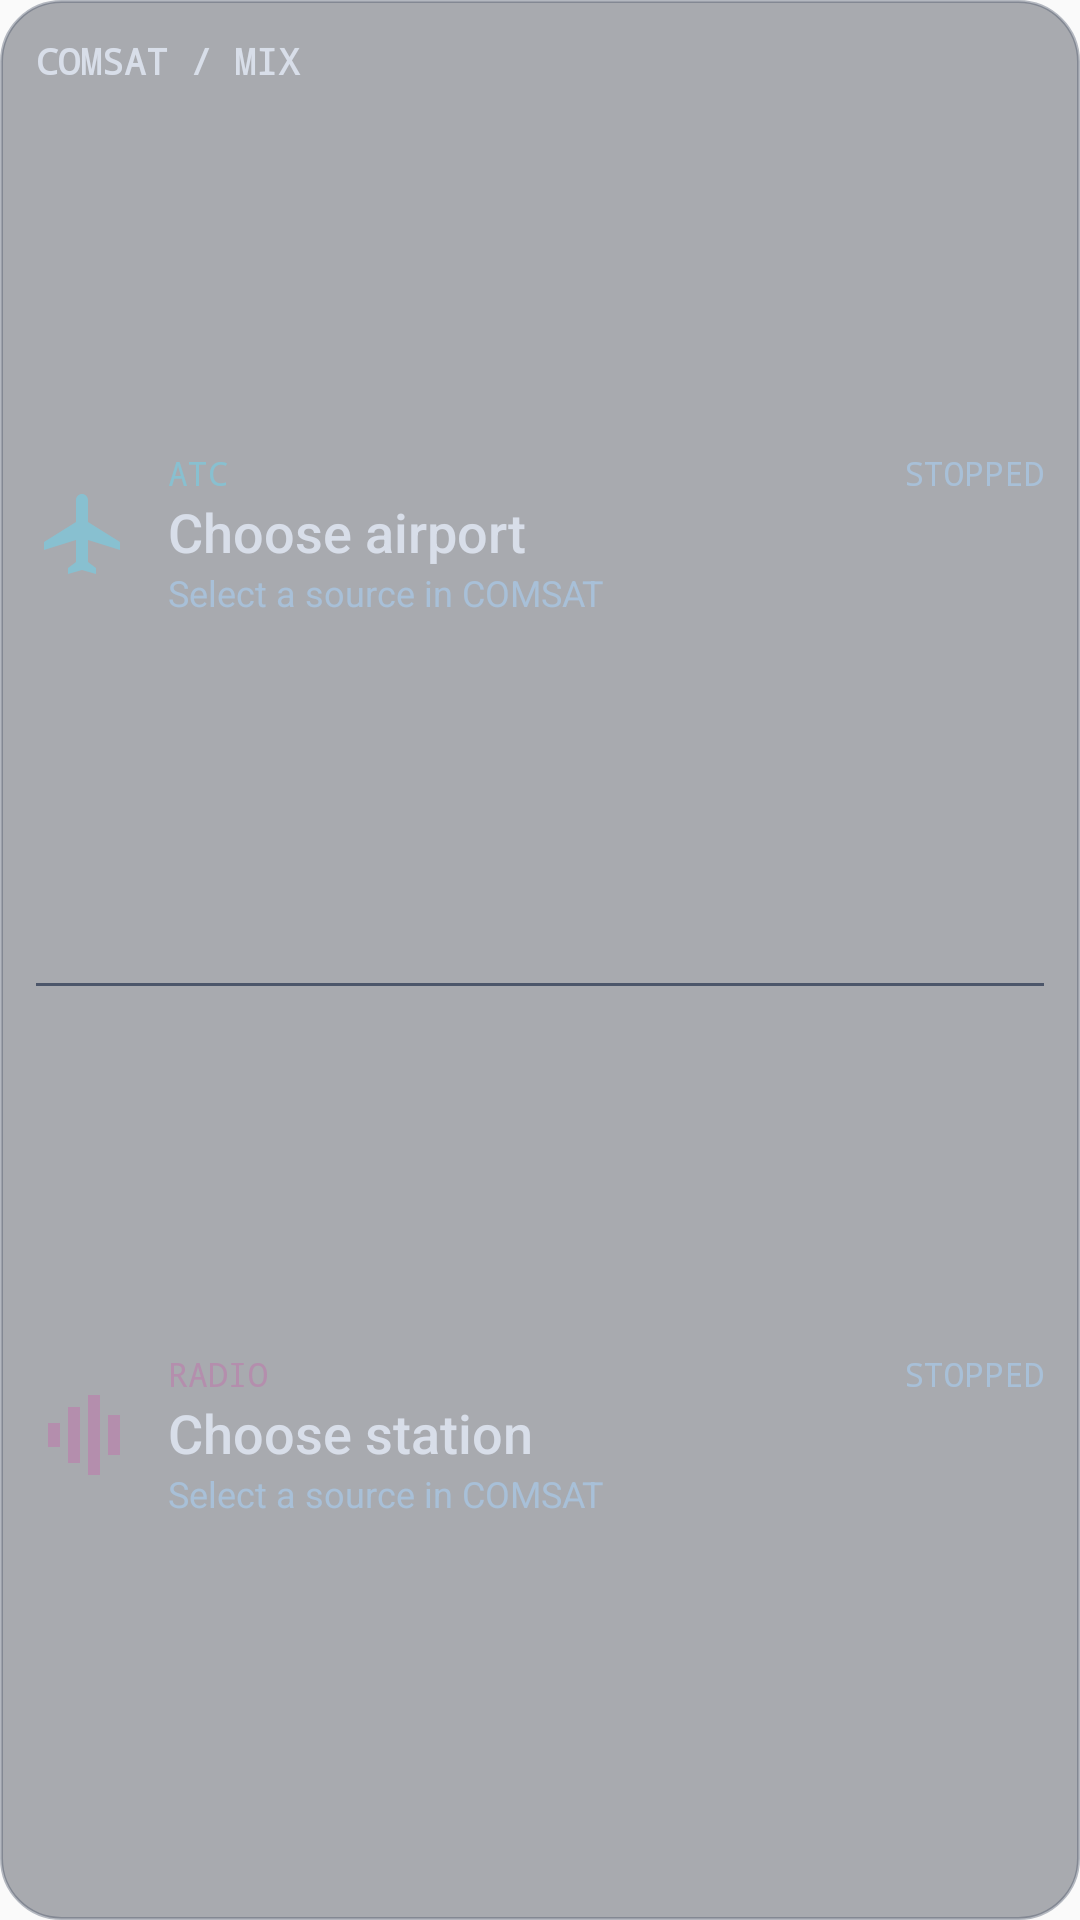

Locate icon controls on the screen. Image size 1080 x 1920, boxes as (x1, y1, x2, y2).
widget airport: (44, 494, 120, 574)
